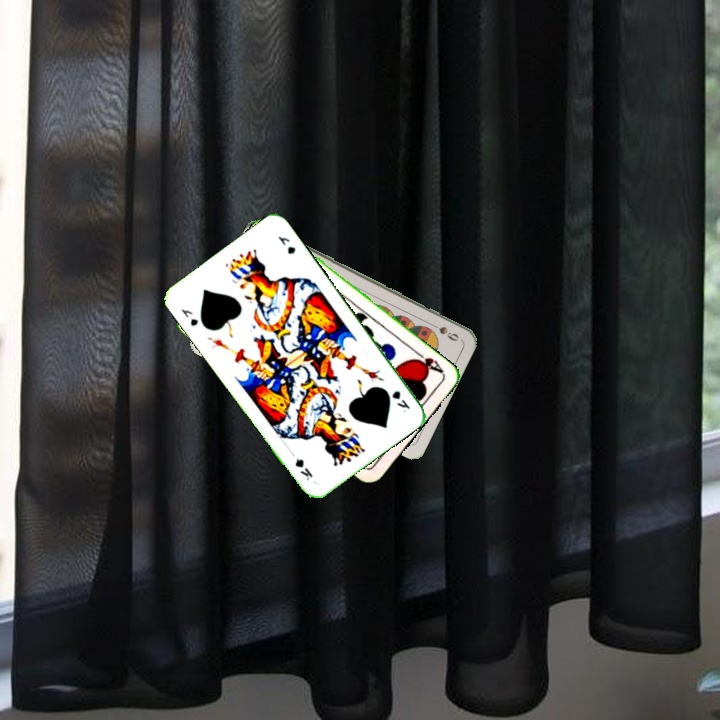GK: (388, 386, 413, 415), (177, 305, 201, 329)
HA: (410, 347, 446, 377)
S9: (424, 318, 462, 343)
